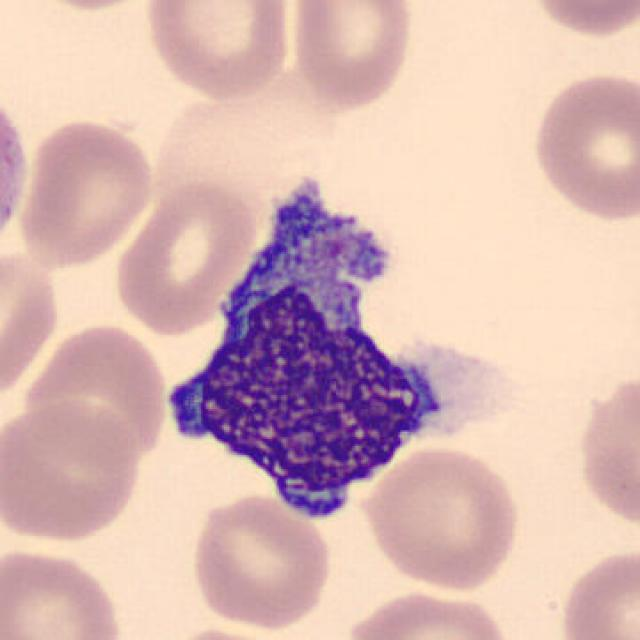Monocyte: (147, 171, 466, 538)
RBC: (358, 443, 524, 594), (110, 175, 262, 336), (16, 114, 158, 270), (21, 319, 171, 466), (0, 396, 146, 546), (187, 490, 336, 631), (526, 67, 638, 226), (140, 0, 293, 102), (284, 0, 418, 113), (0, 543, 128, 640), (572, 363, 638, 536), (0, 242, 64, 407), (340, 587, 518, 640), (554, 543, 640, 640), (0, 74, 34, 270), (524, 0, 638, 41), (156, 624, 292, 640), (14, 0, 164, 14)
